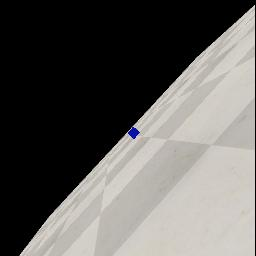box: (128, 127, 140, 139)
